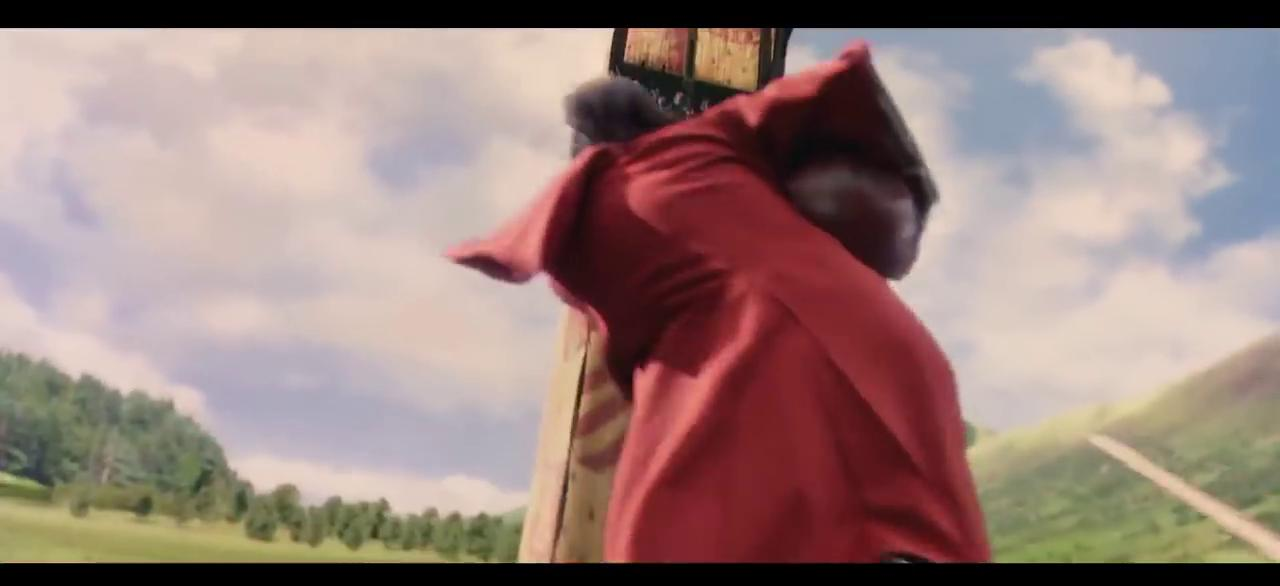quaffle: (790, 154, 919, 277)
